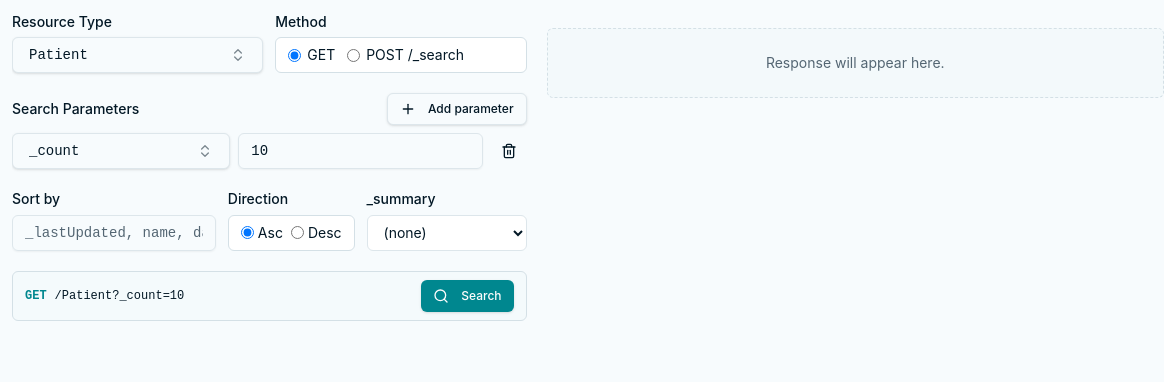
Test: SearchPanel › adds and removes parameter rows
Expected: the number of dropdowns named "search parameter name" is 1, [12,133,230,169]
Click the button "Add parameter". click: (457, 109)
box: [387,93,527,125]
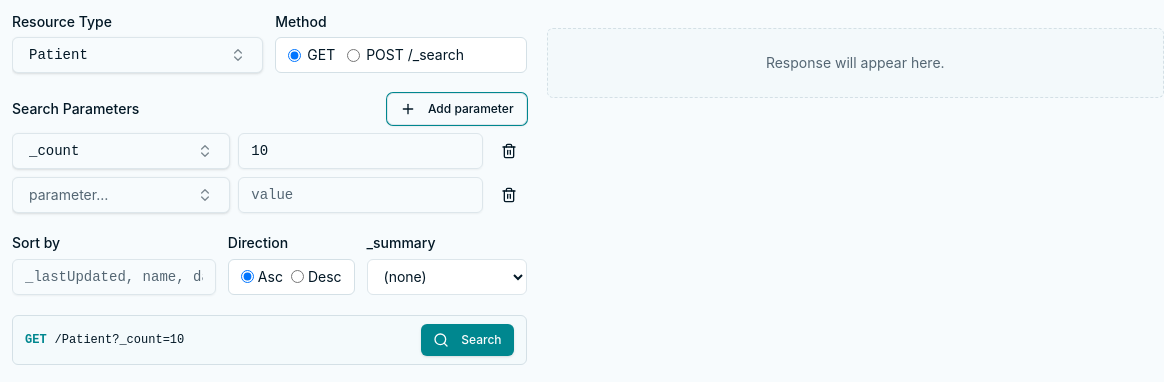
Now the number of dropdowns named "search parameter name" is 2, box [12,133,230,169]; [12,177,230,213]
Click the 1st button named "remove parameter". click: (508, 151)
box: [490,133,526,169]
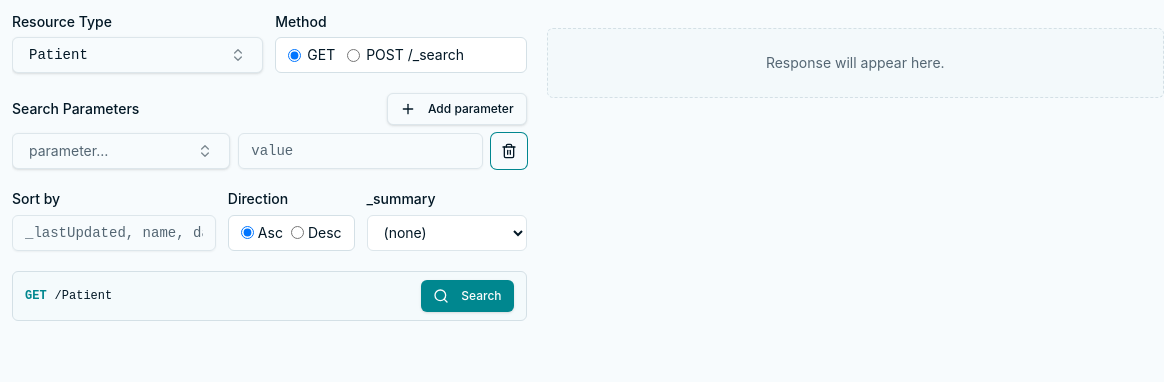
Now the number of dropdowns named "search parameter name" is 1, box [12,133,230,169]
